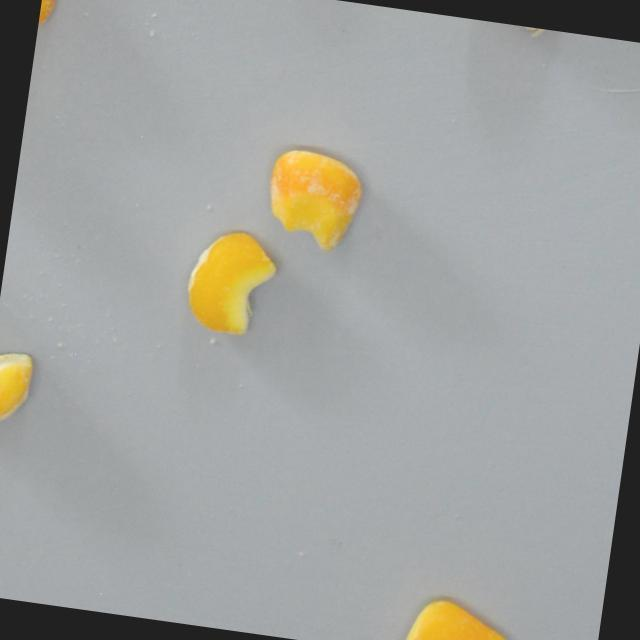no_desgerminado: (401, 592, 518, 640)
pelicula: (180, 225, 281, 339), (258, 146, 363, 246), (0, 321, 39, 430), (37, 0, 58, 37)
